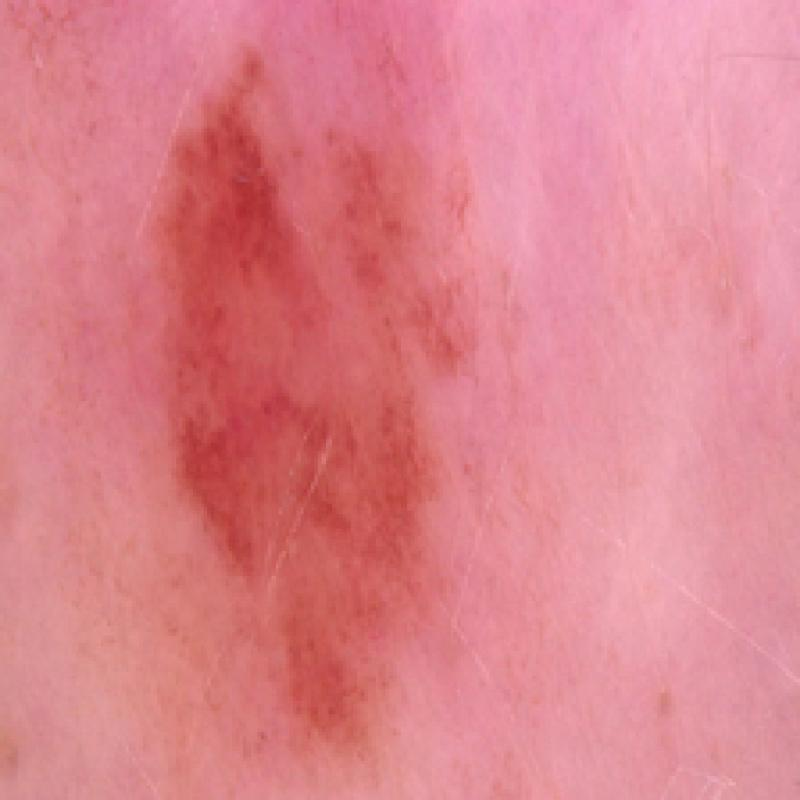benign: (125, 38, 532, 770)
